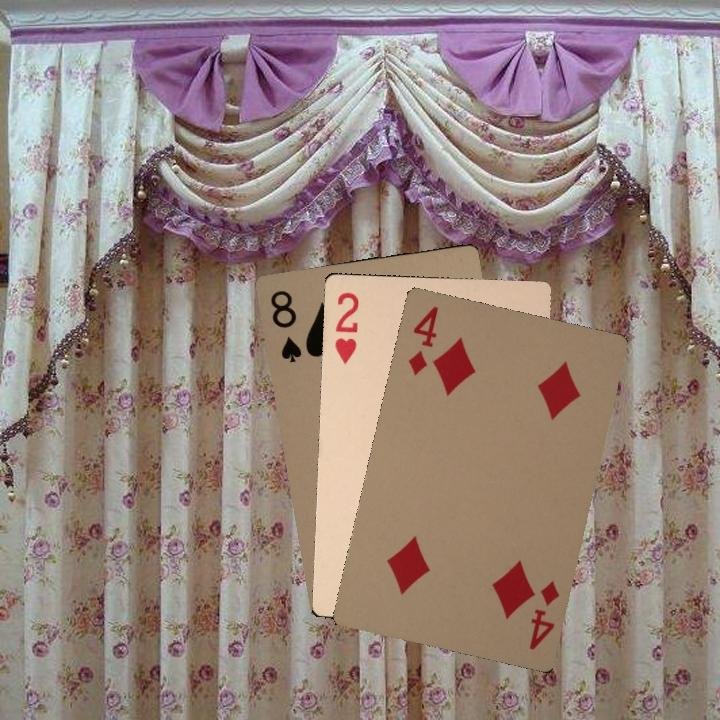2h: (331, 288, 362, 366)
4d: (404, 302, 441, 378), (525, 577, 562, 653)
8s: (266, 286, 305, 365)
